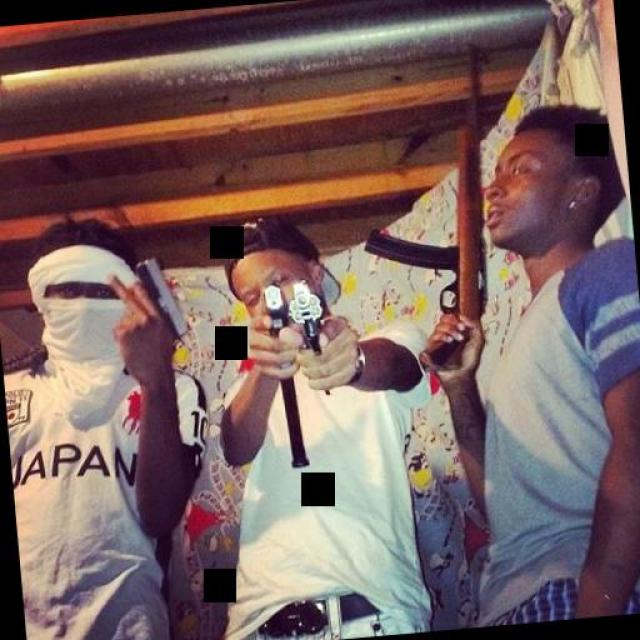gun: (112, 253, 186, 375), (285, 274, 336, 398), (255, 279, 300, 391)
